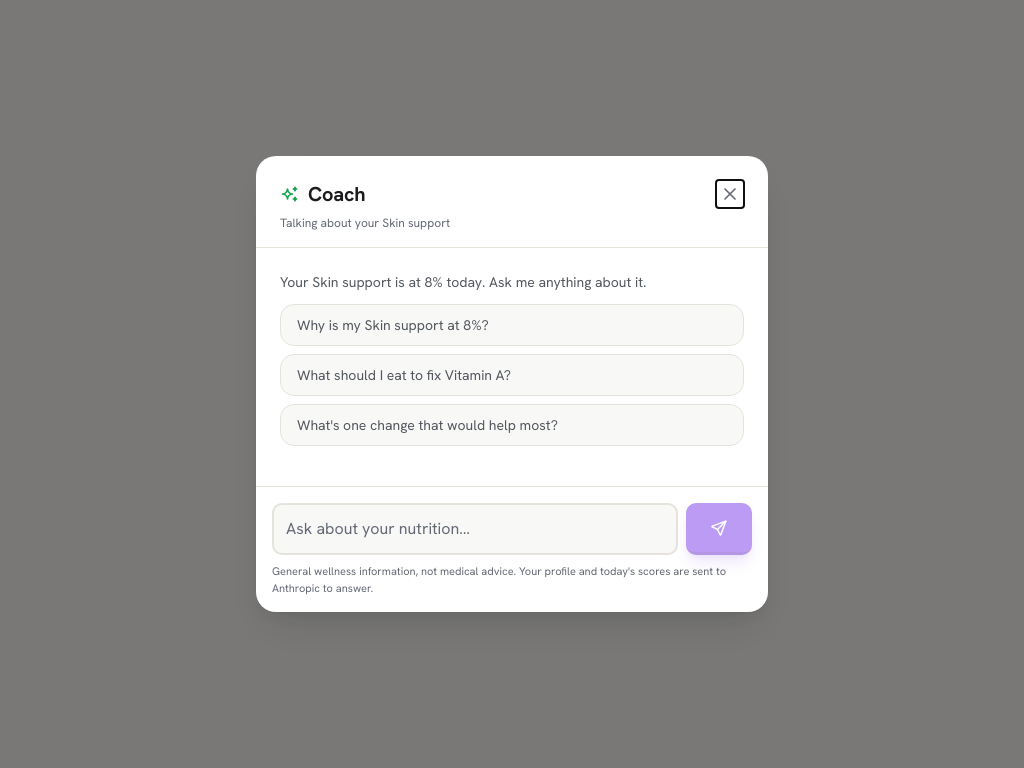
Test: Coach — safety screen › shows crisis resources instead of an AI answer
In the field named "Message the coach": {"x": 475, "y": 529} [272,503,678,555], type "I want to kill myself"
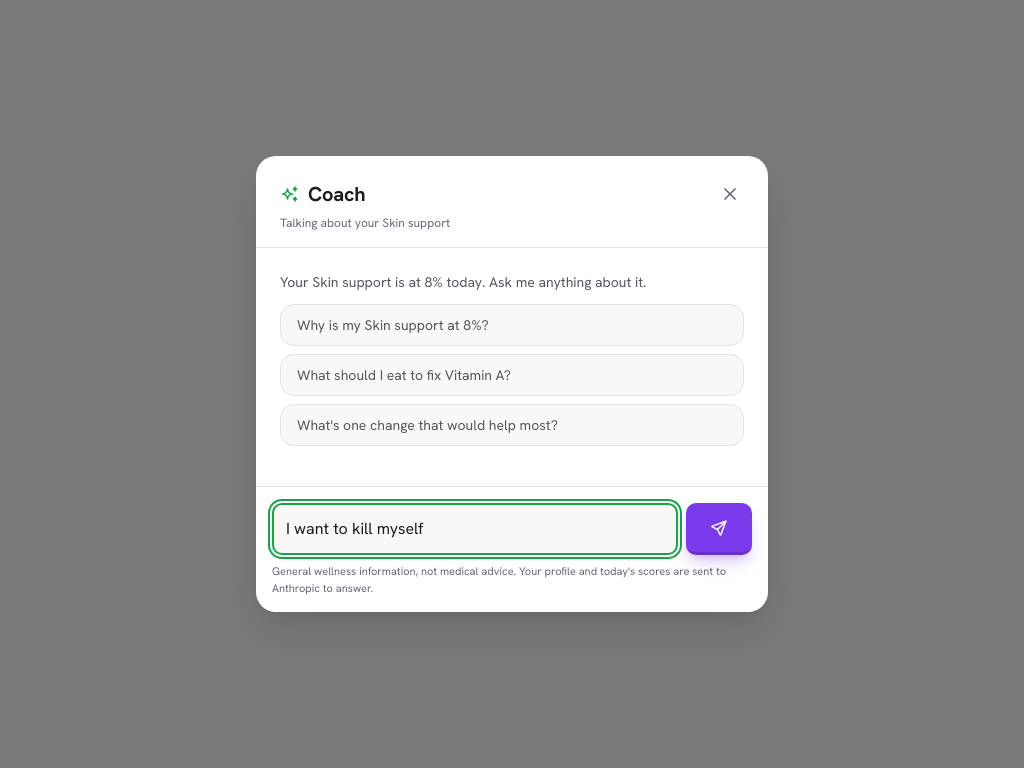
Click the button named "Send": {"x": 719, "y": 529} [686,503,752,555]
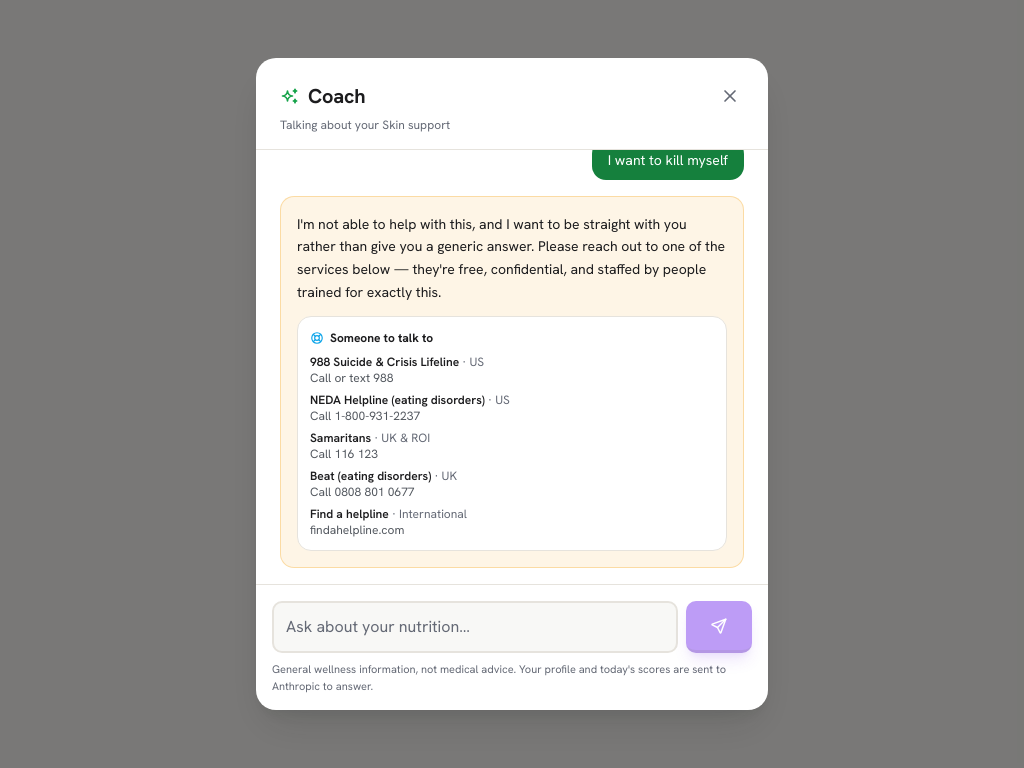
Expected: the text "Someone to talk to" is shown, [310,330,433,346]
Expected: the list item "988" is shown, [310,354,459,370]
